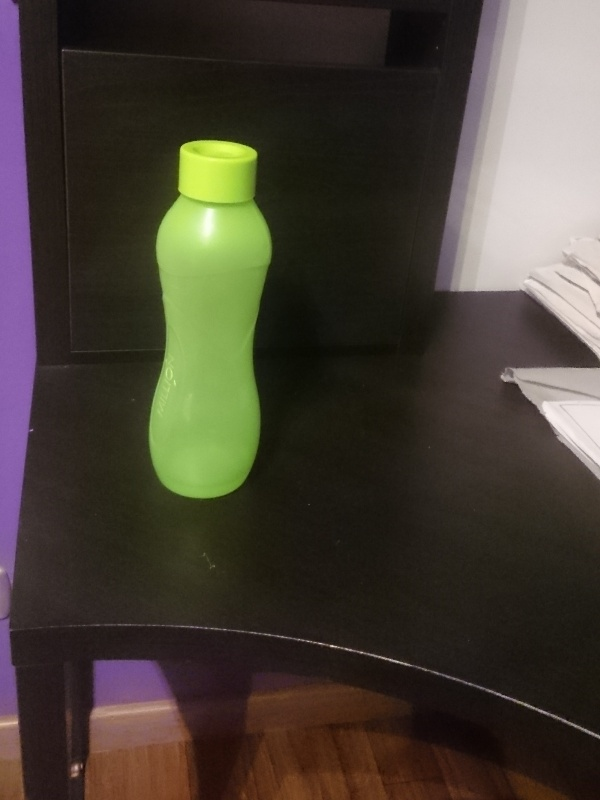my bottle: (145, 137, 270, 498)
